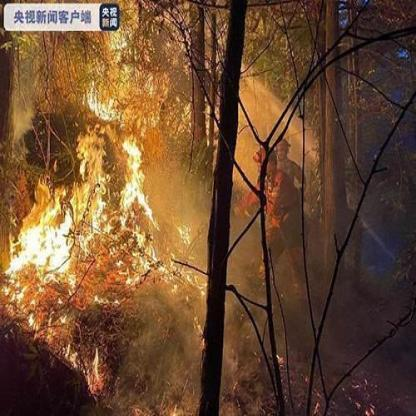Fire: (0, 0, 317, 396)
